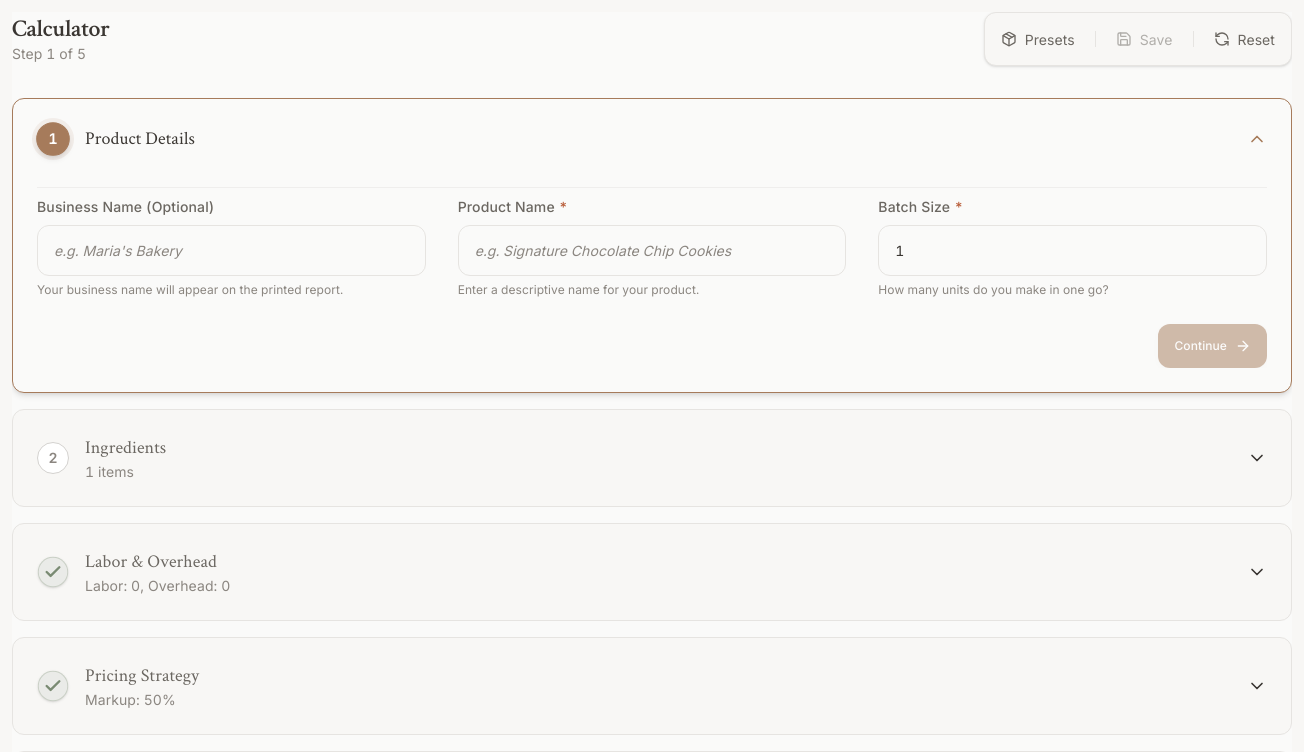
Test case: CalculatorForm › clears form when reset is clicked
Step 1. Type "To Be Cleared" into the field labelled "Product Name*" → (652,250), box x1=458 y1=225 x2=846 y2=276
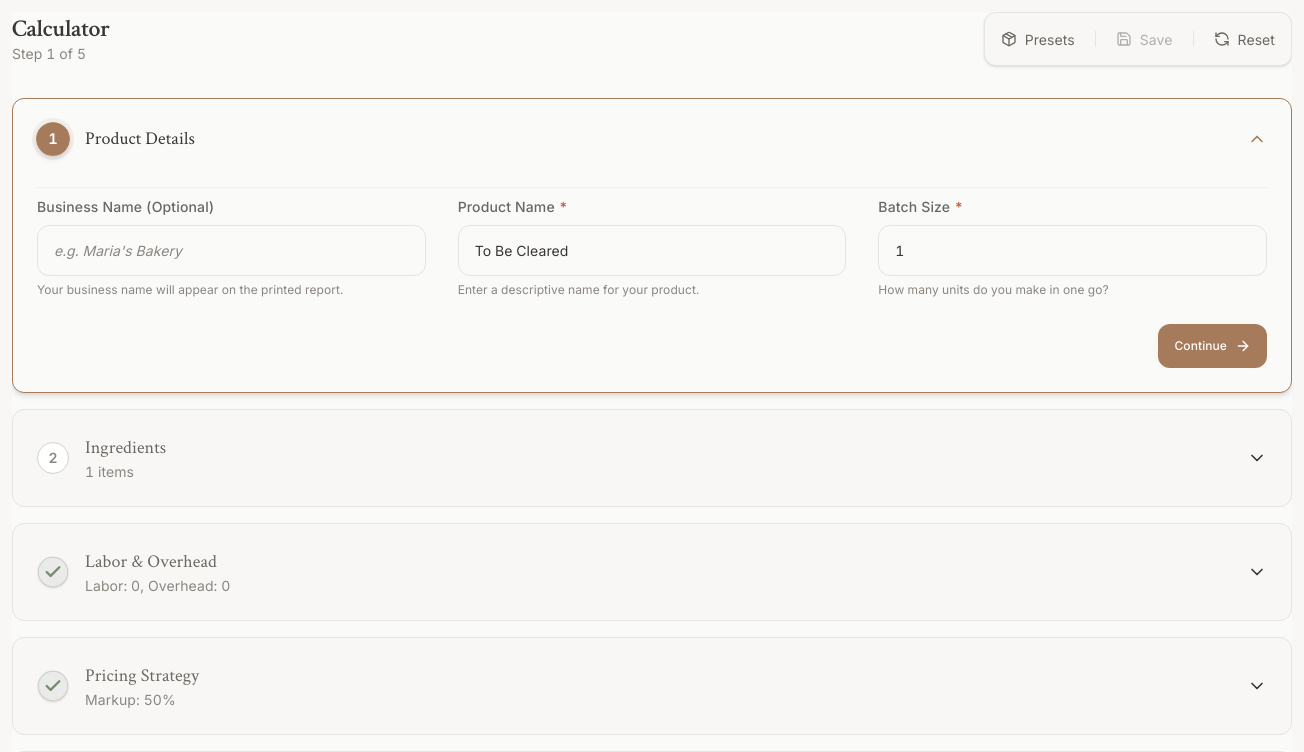
Step 2. Click the button "Reset" → (1244,39), box x1=1202 y1=17 x2=1287 y2=61
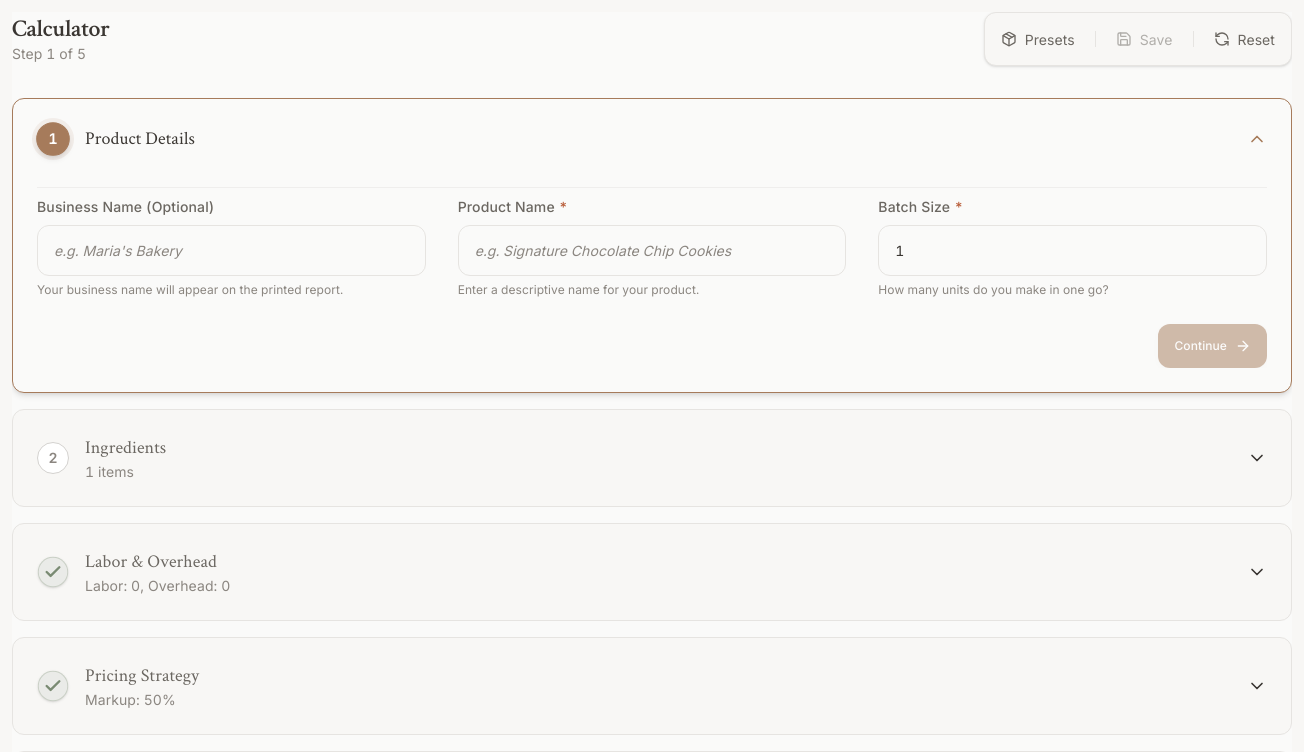
expect the field labelled "Product Name*" is empty: met, box x1=458 y1=225 x2=846 y2=276
